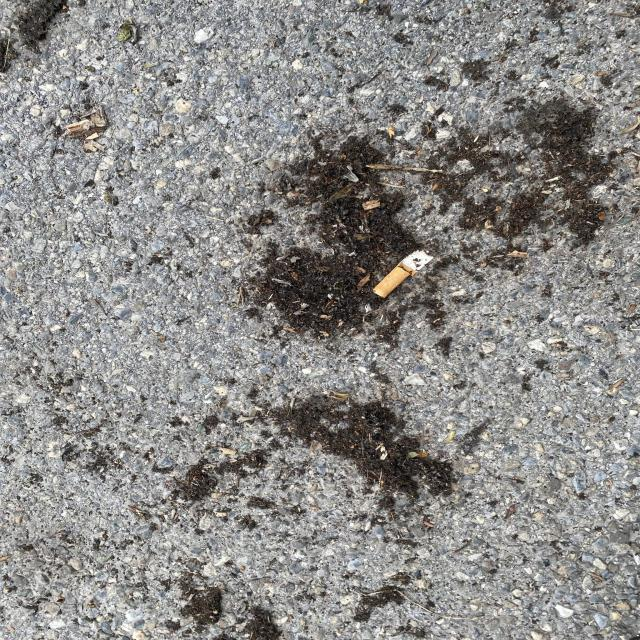other waste: (372, 248, 434, 298)
